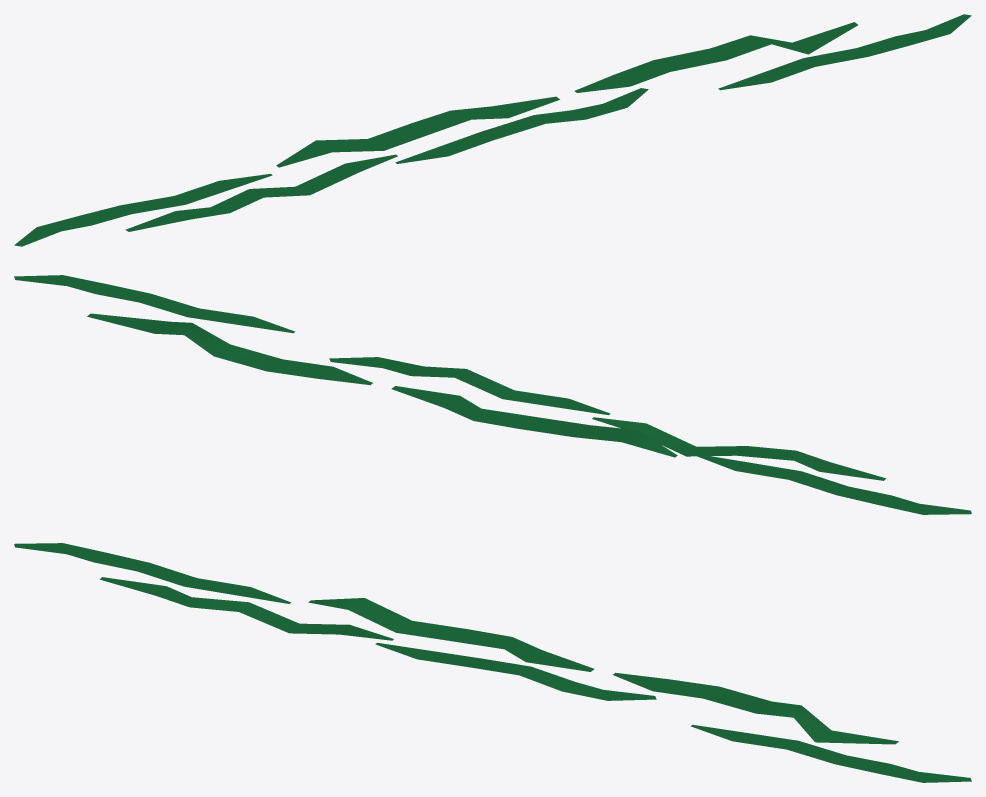
File: Mesh_SeaWeed.fbx
The picture shows the model from 3 angles, top to bottom: view 1: azimuth 30°, elevation 25°; view 2: azimuth 150°, elevation 25°; view 3: azimuth 330°, elevation 25°; orthographic projection.
Parts seen in each view (by area): view 1: Tang; view 2: Tang; view 3: Tang.
Part boxes in pixels (x1,y1,x2,y2): Tang: [14, 14, 971, 246]; Tang: [14, 275, 971, 514]; Tang: [14, 543, 971, 782].
Bounding box in the file's own units: 1552 × 30.94 × 148.
Materials: 1 (1 with a texture image).
